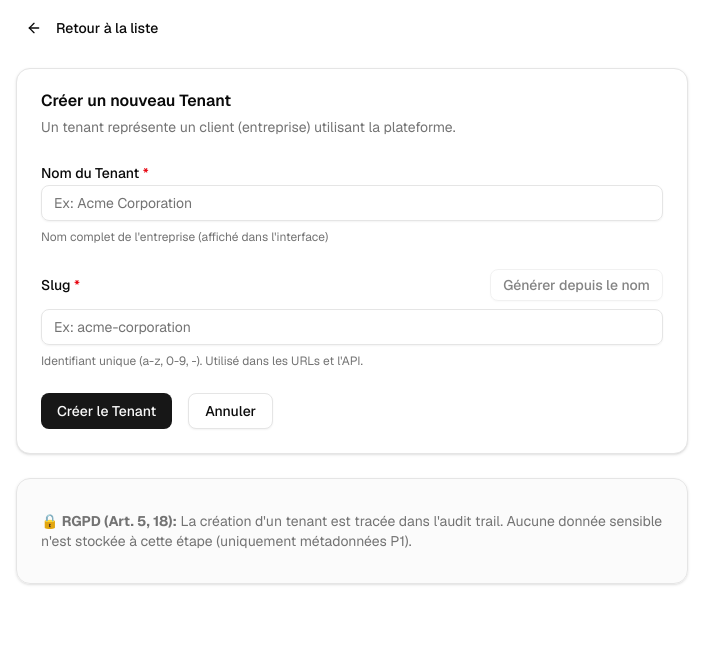
Integration Tests - Tenant CRUD (LOT 11.1) › Create Tenant Form › [INT-006] should validate required fields
Click the button "Créer le Tenant" at (107, 411), box x1=41 y1=393 x2=172 y2=429
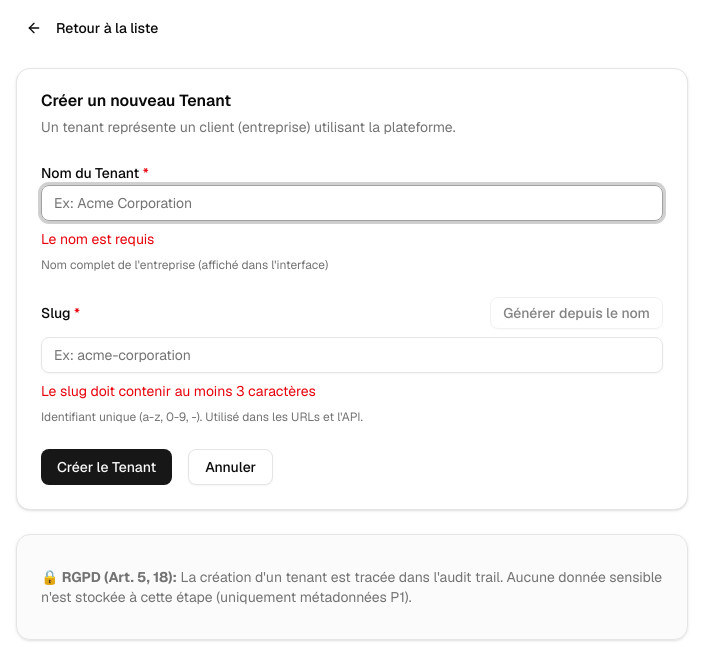
Expected: the text "Le nom est requis" is shown, x1=41 y1=230 x2=154 y2=248
